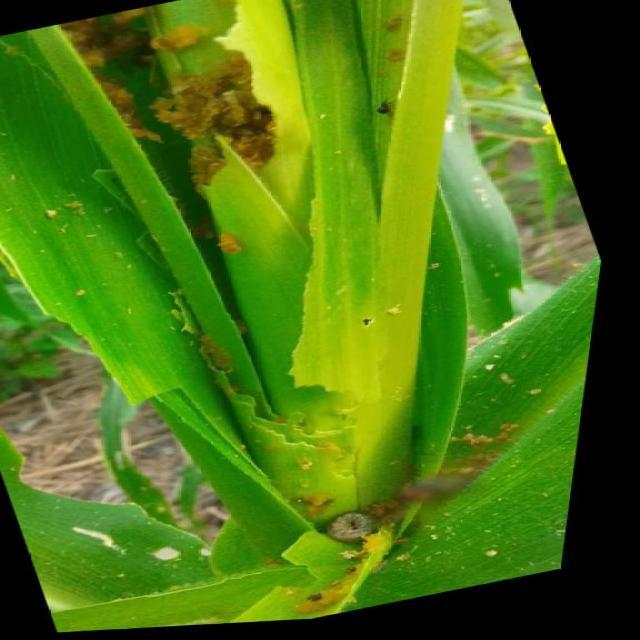fall-armyworm-egg: (0, 0, 640, 640)
fall-armyworm-frass: (0, 0, 640, 640)
fall-armyworm-larva: (0, 0, 640, 640)
fall-armyworm-larval-damage: (0, 0, 640, 640)
